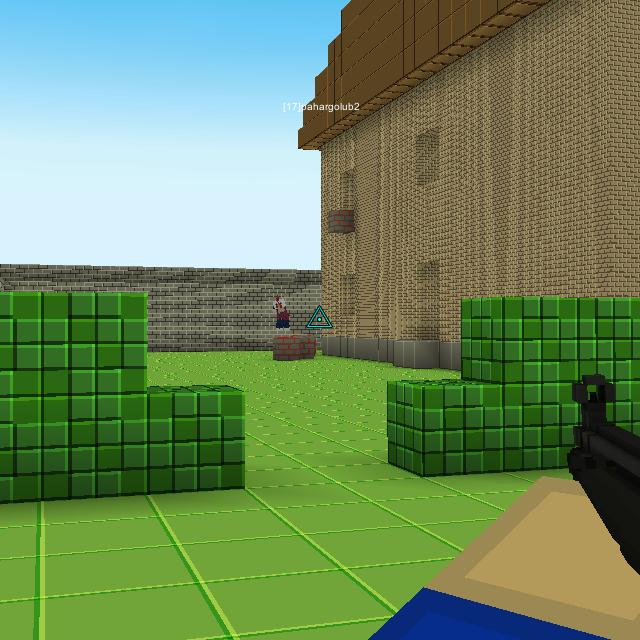enemy: (272, 294, 292, 331)
